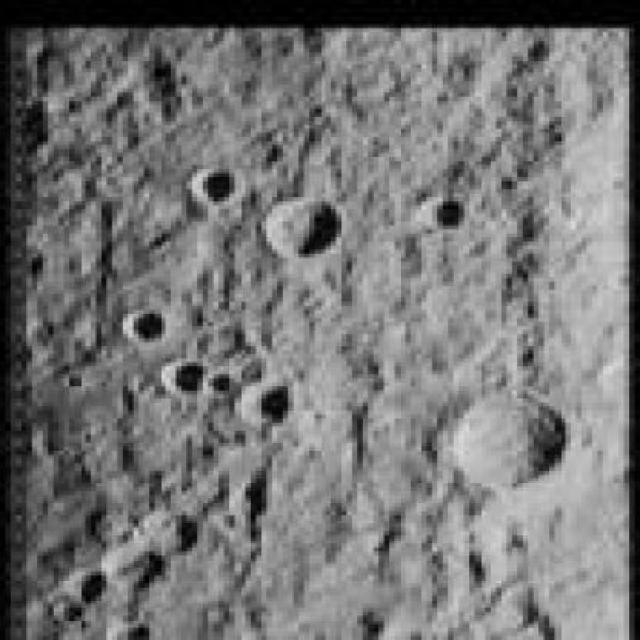crater: (445, 388, 570, 489), (263, 198, 340, 258), (241, 384, 288, 428), (196, 166, 242, 203), (126, 308, 166, 342), (162, 362, 204, 392), (431, 200, 463, 228), (208, 375, 229, 391)
